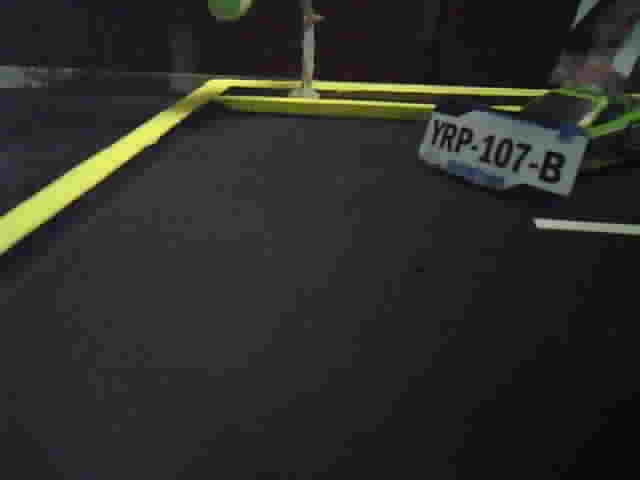PLACA: (416, 93, 591, 213)
ROSTRO: (579, 1, 623, 102)
